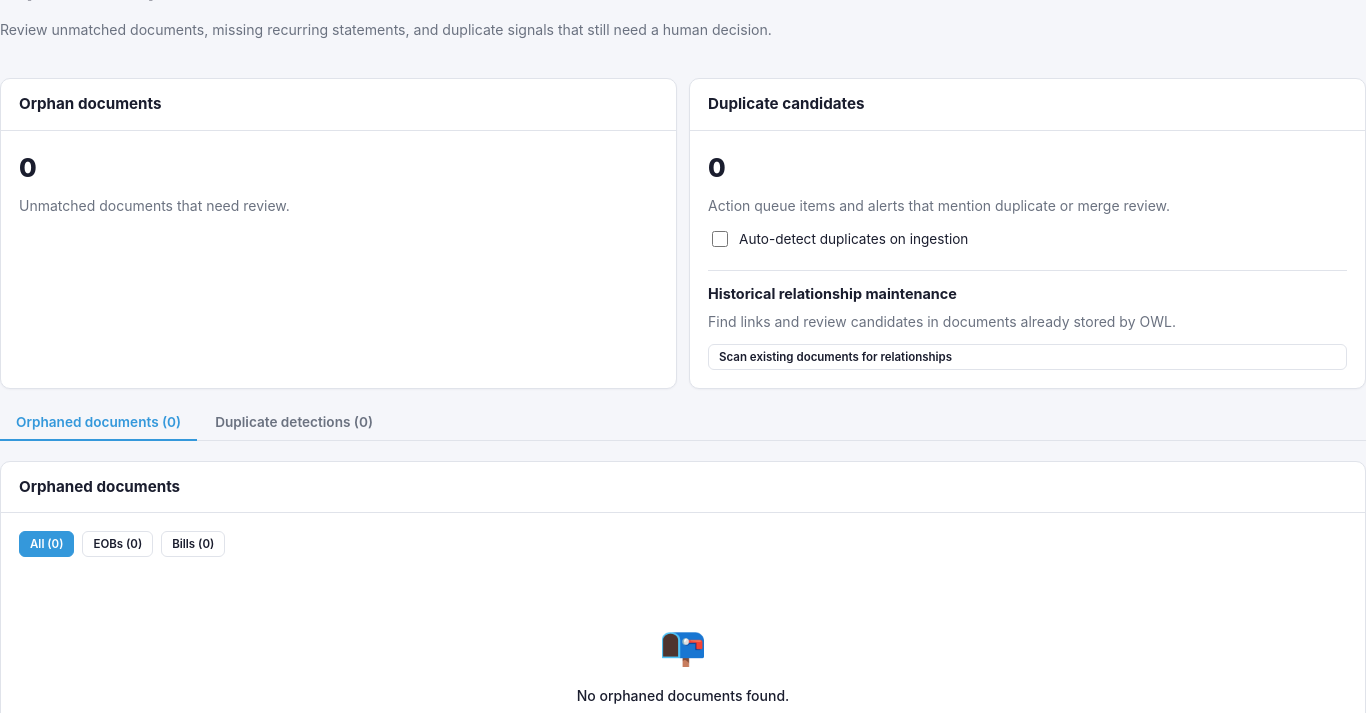
Test: OrphansDupes relationship maintenance › blocks rapid duplicate starts and clears a stale start error when a run attaches
This screenshot has width=1366, height=713.
Click the button "Scan existing documents for relationships".
click(836, 357)  # box left=708, top=344, right=1347, bottom=370
(page scrolled)
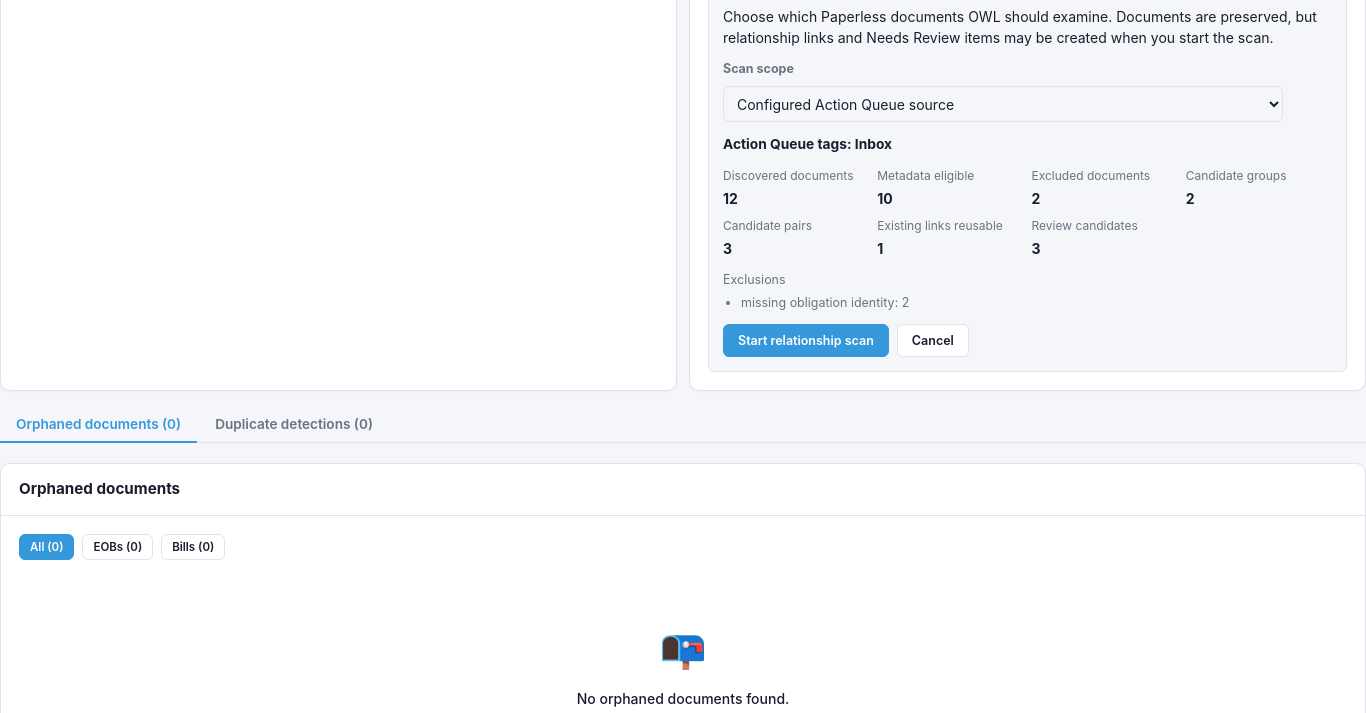
Click the button "Start relationship scan".
click(806, 341)  # box left=723, top=324, right=889, bottom=358
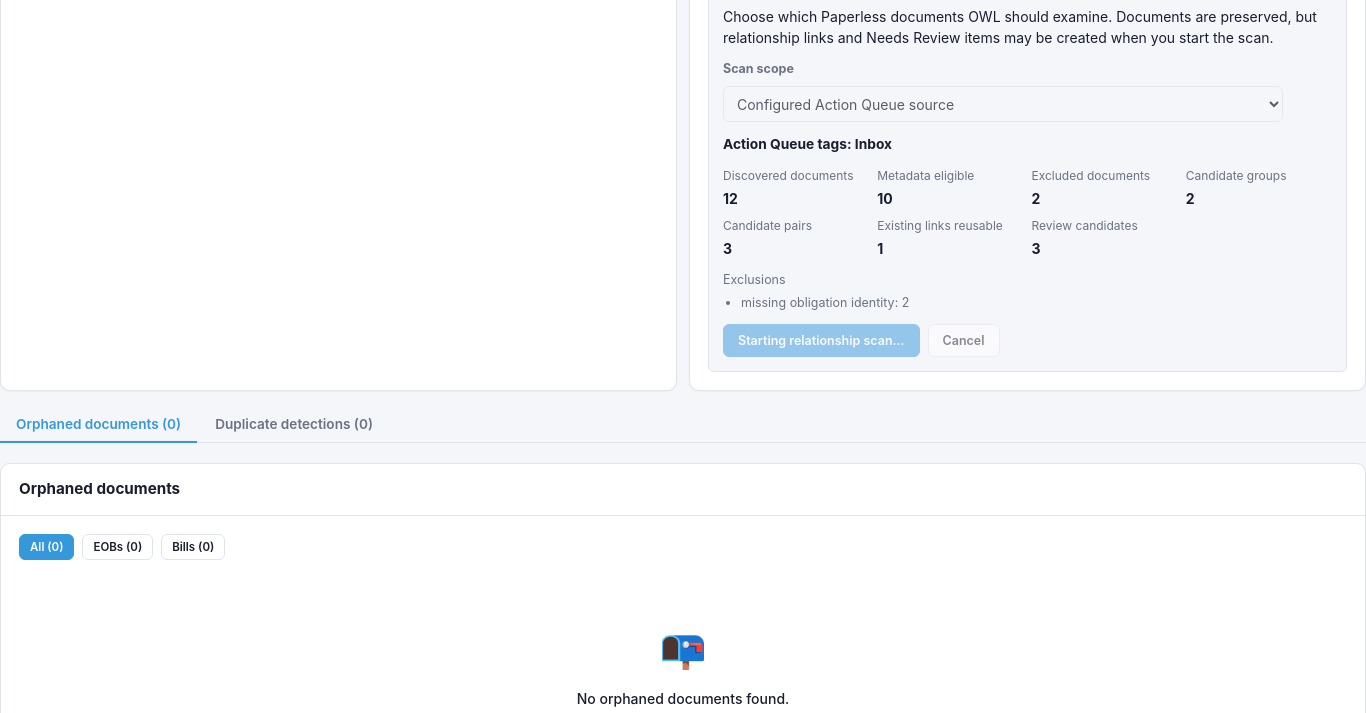
Click the button named "Start relationship scan".
click(821, 341)  # box left=723, top=324, right=920, bottom=358
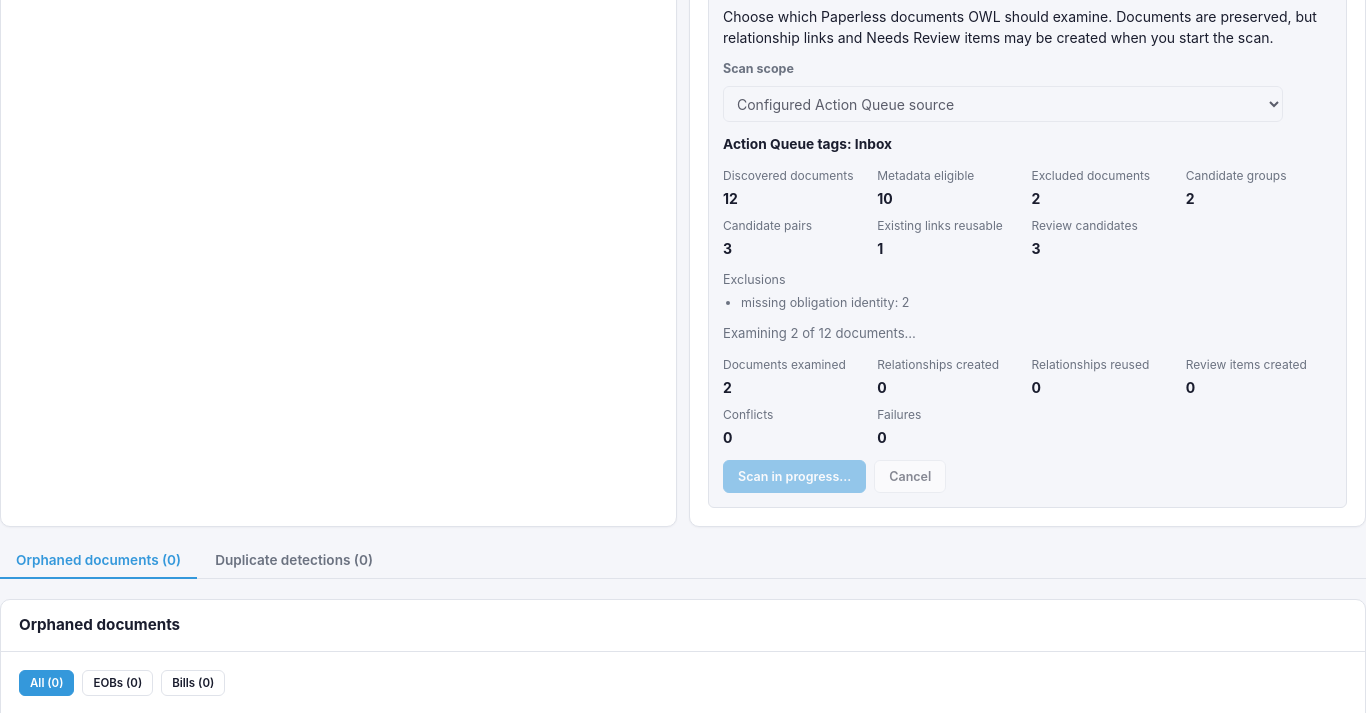
Expected: the button named "Starting relationship scan…" is disabled, left=723, top=460, right=866, bottom=493
Expected: the text "Examining 2 of 12 documents…" is shown, left=723, top=326, right=916, bottom=342
